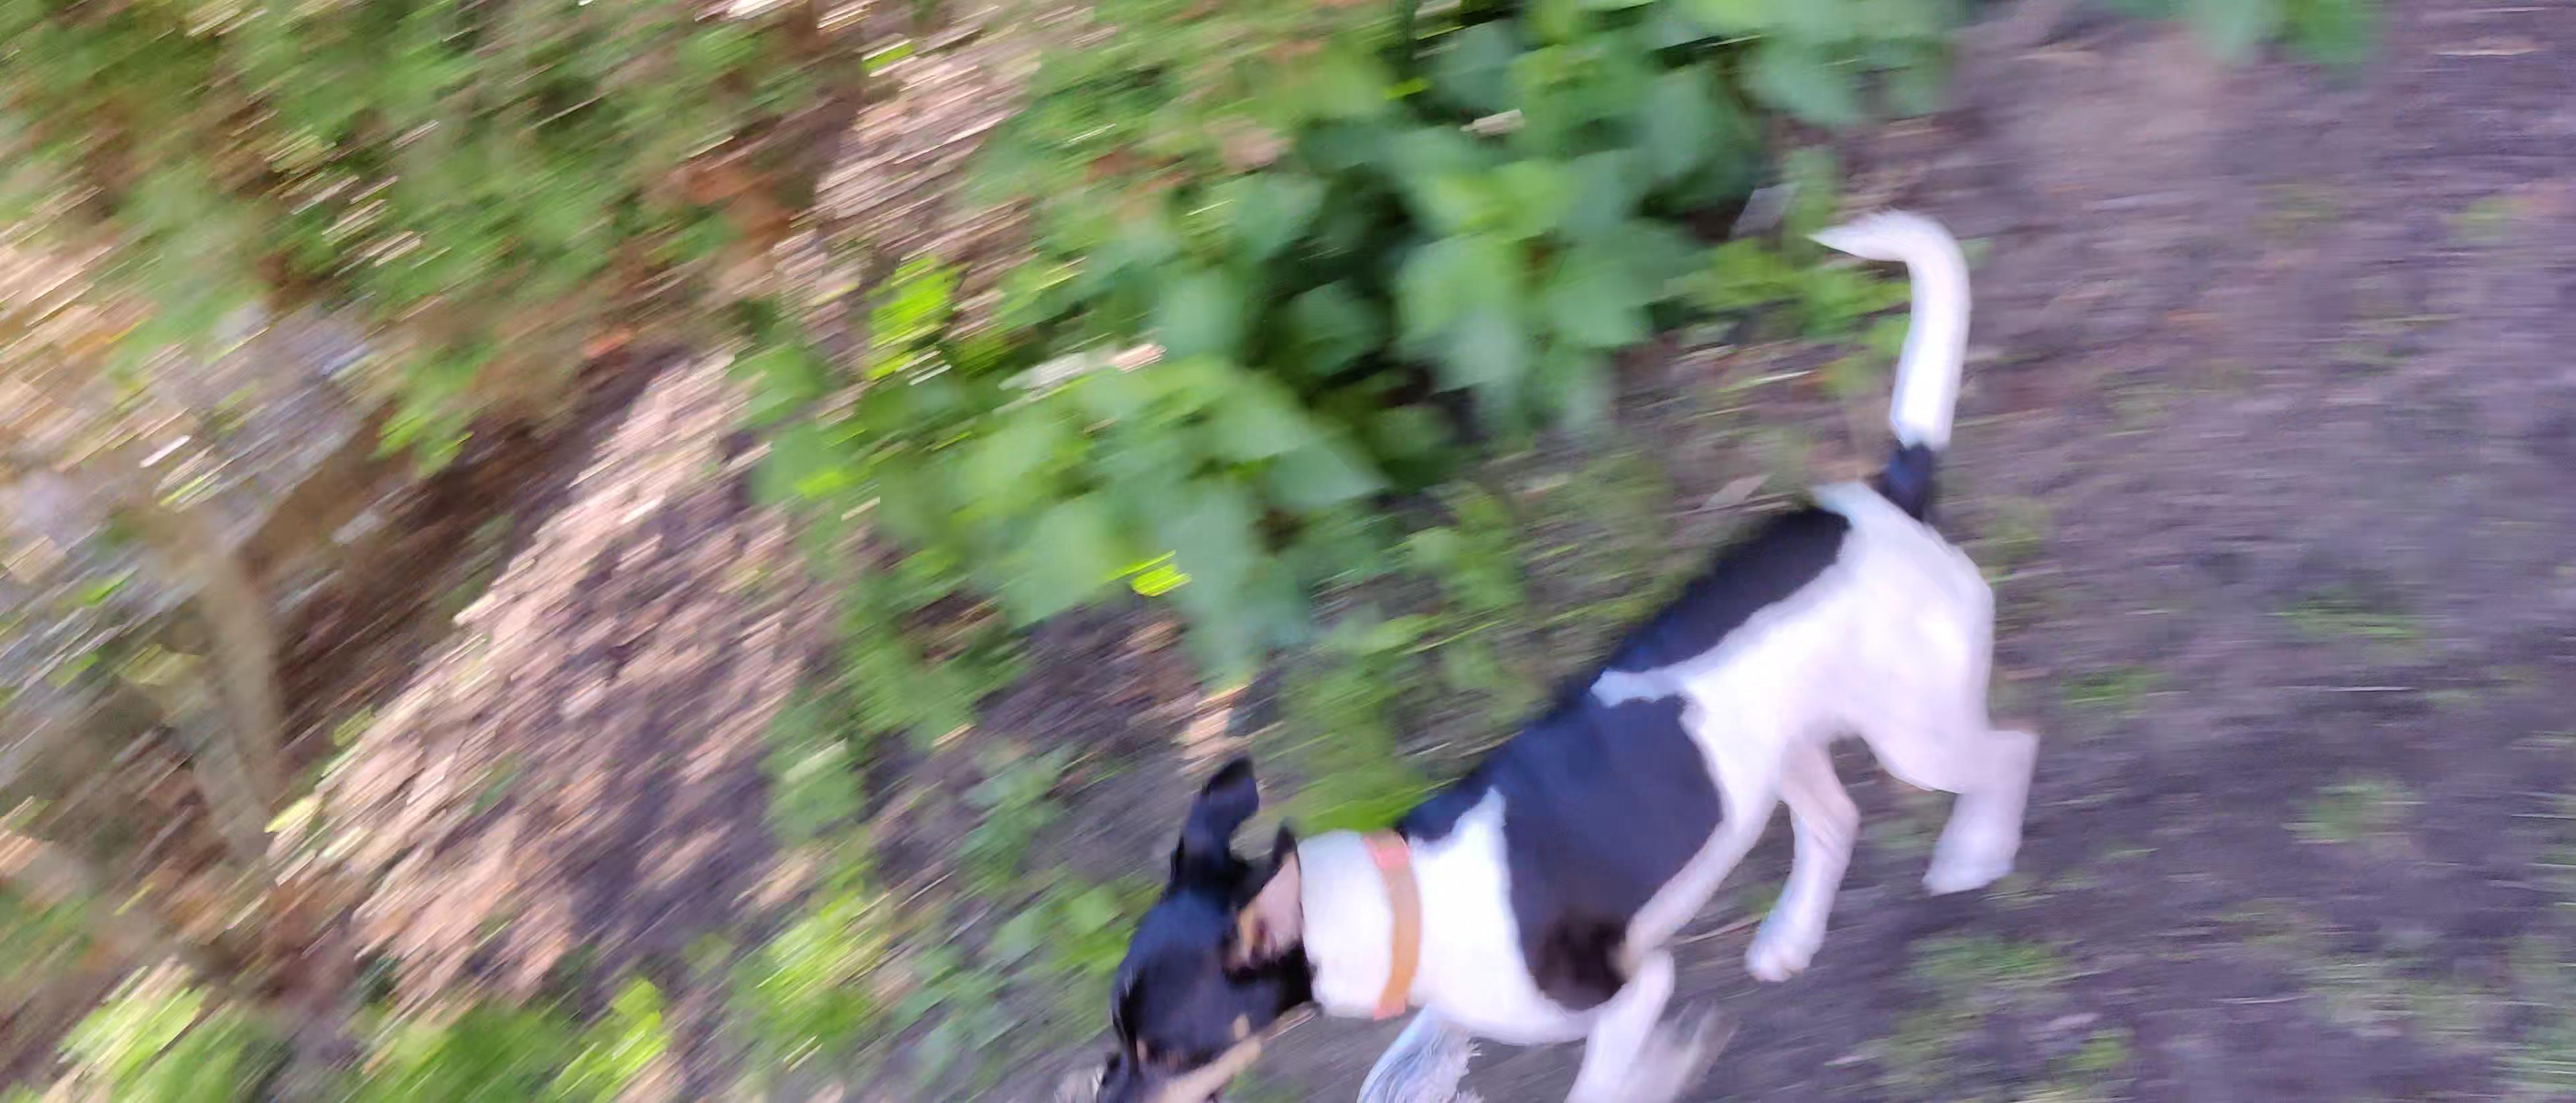Dog: (1091, 204, 2068, 1103)
